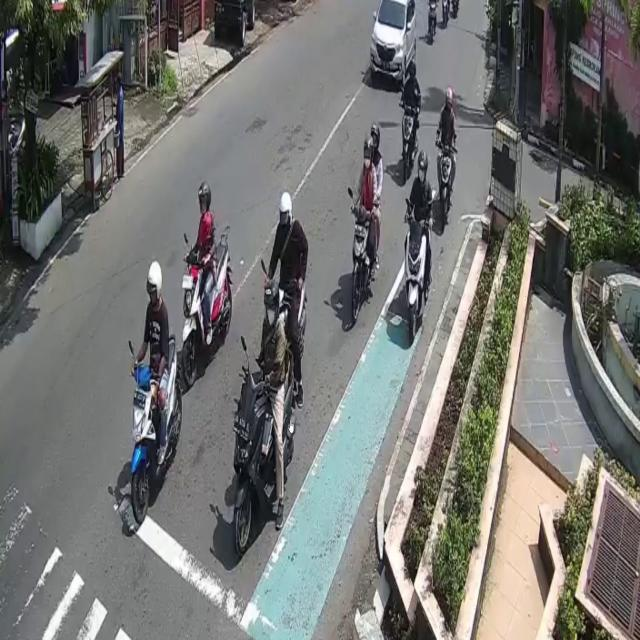bus: (233, 360, 295, 559), (130, 332, 182, 527), (181, 240, 231, 385), (402, 215, 427, 342), (352, 203, 369, 323), (436, 138, 454, 230), (401, 104, 415, 188)
motorcycle: (369, 0, 416, 80)
